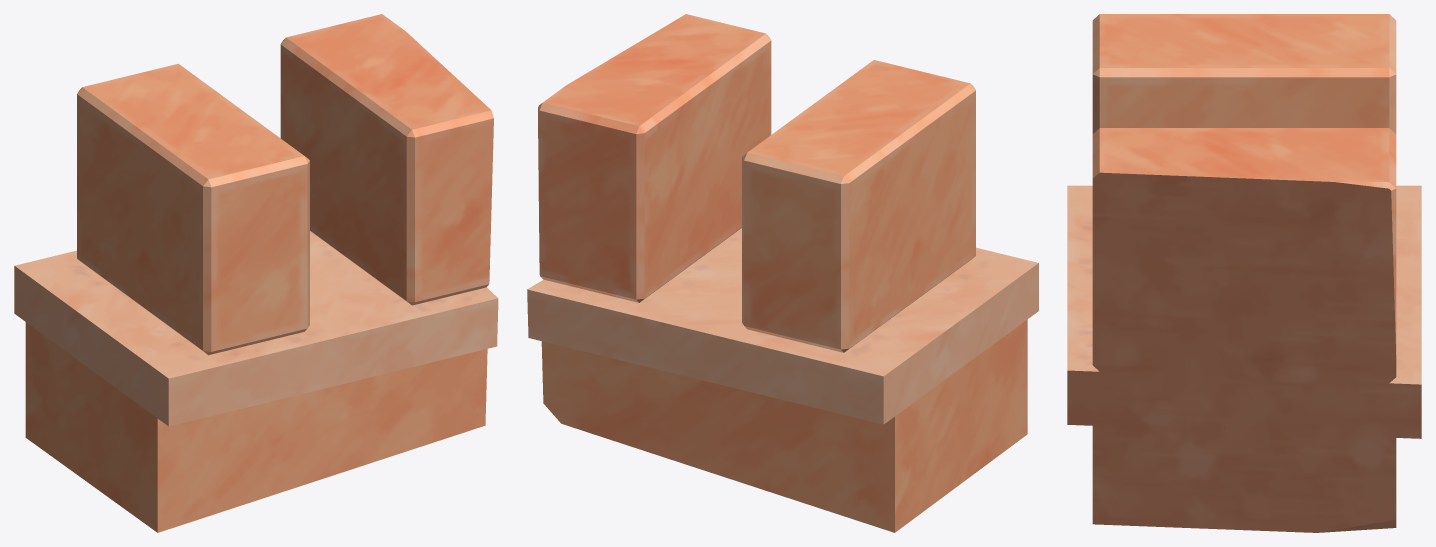
File: townwall_s13.fbx
3 views of the same model, side by side, from view 1: azimuth 30°, elevation 25°; view 2: azimuth 150°, elevation 25°; view 3: azimuth 270°, elevation 25° (orthographic). The views are drawn at different scales.
Parts seen in each view (by area): view 1: townwall_s13; view 2: townwall_s13; view 3: townwall_s13.
Boxes of the visible parts, box(x1,y1,x2,y2) form: townwall_s13: box(14, 14, 498, 532); townwall_s13: box(527, 14, 1038, 532); townwall_s13: box(1067, 14, 1421, 532).
Size of the model in its own units: 4.68 by 4.25 by 3.5.
